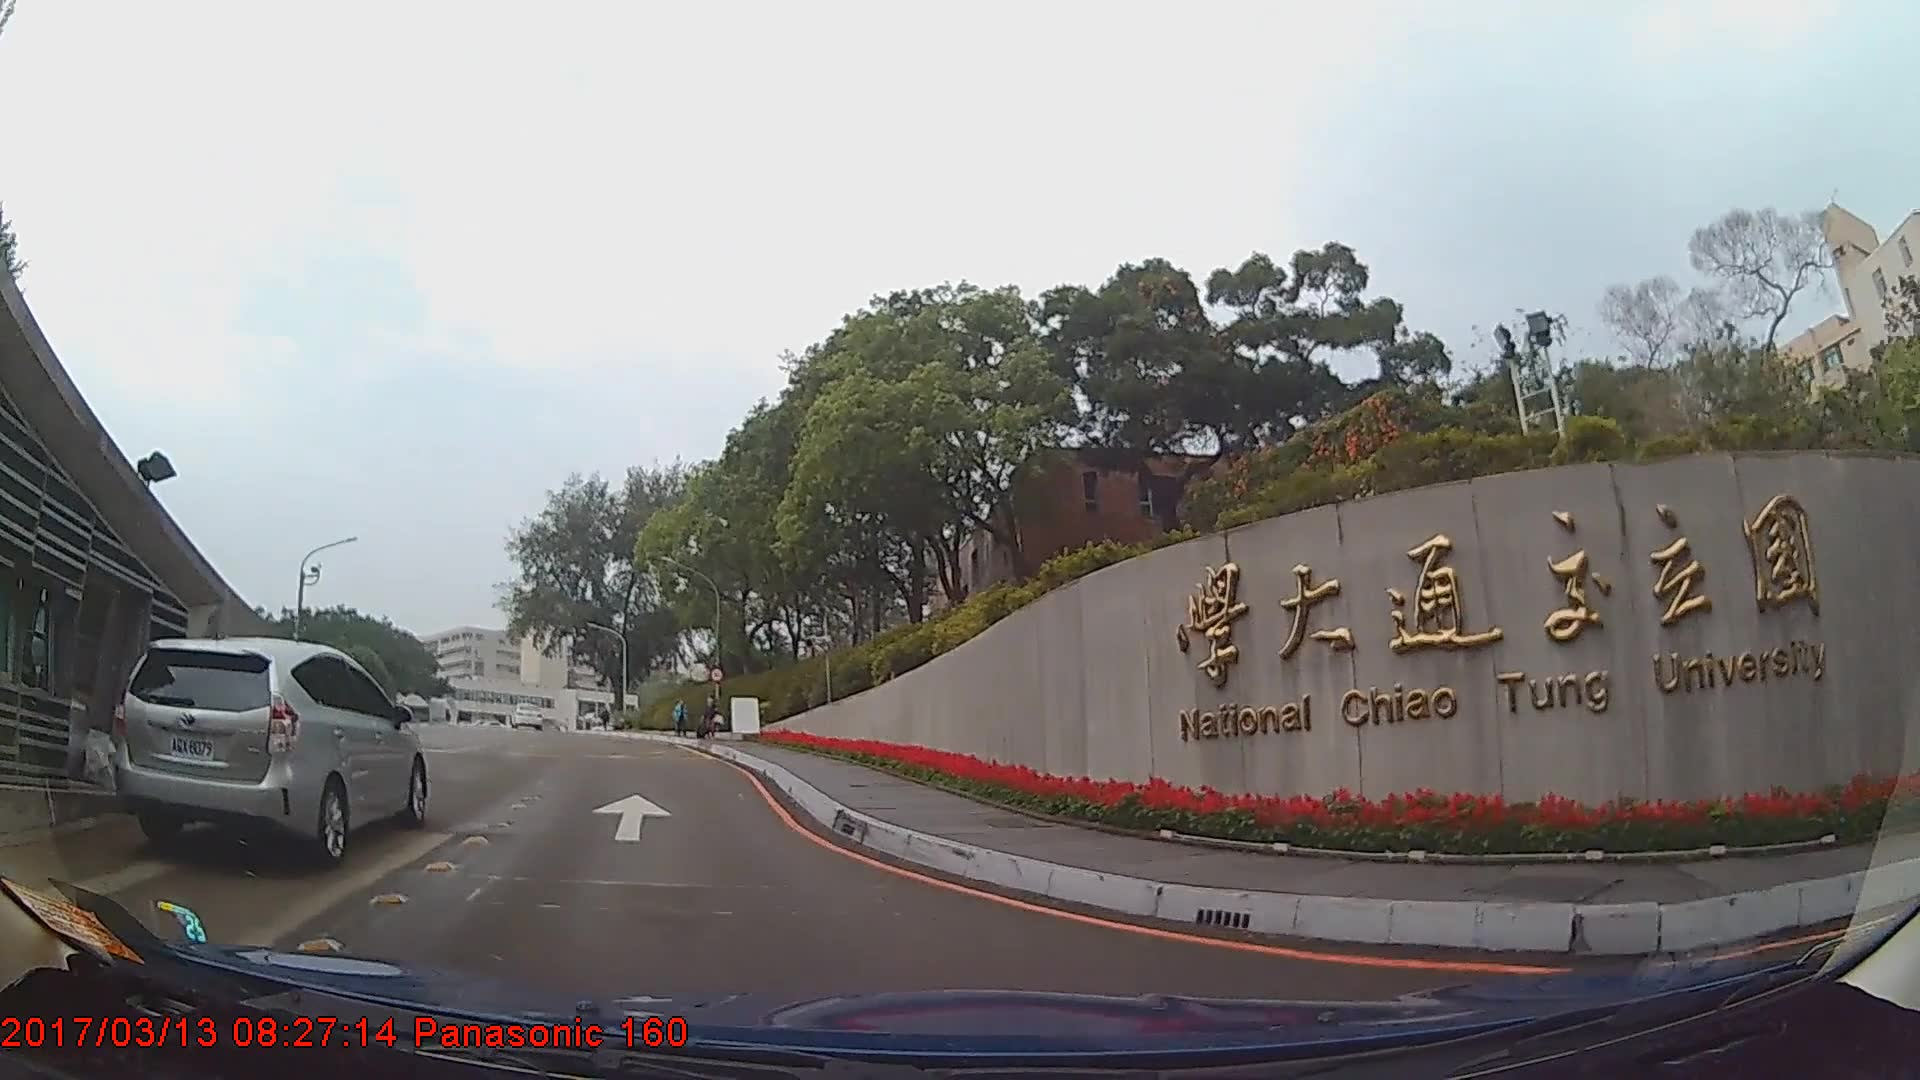vehicle: (112, 636, 429, 862), (509, 700, 545, 731)
